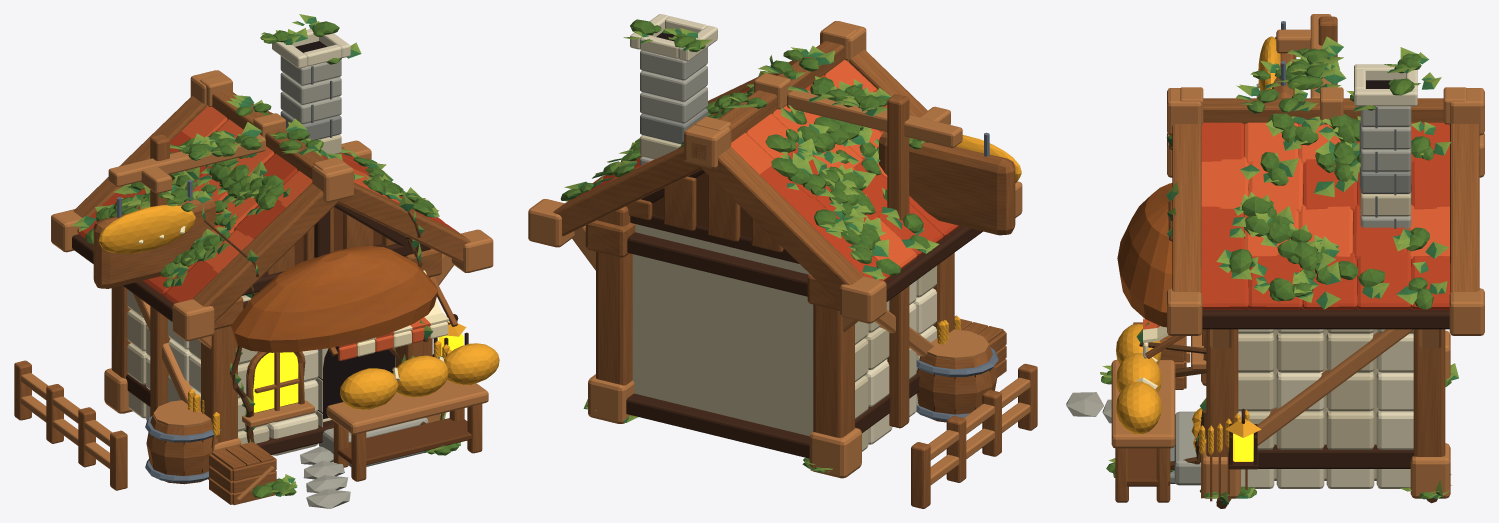
File: bakery.glb
The picture shows the model from 3 angles, left to right: view 1: azimuth 30°, elevation 25°; view 2: azimuth 150°, elevation 25°; view 3: azimuth 270°, elevation 25°; orthographic projection. The views are drawn at different scales.
Visible parts, largest first — view 1: Runtime surface 003, Runtime surface 004, Runtime surface 020, Runtime surface 024, Runtime surface 016, Runtime surface 007, Runtime surface 023, Runtime surface 014, Runtime surface 012, Runtime surface 015, Runtime surface 011, Runtime surface 017 (+9 smaller); view 2: Runtime surface 003, Runtime surface 011, Runtime surface 004, Runtime surface 014, Runtime surface 024, Runtime surface 023, Runtime surface 017, Runtime surface 015, Runtime surface 012, Runtime surface 007, Runtime surface 022, Runtime surface 008 (+3 smaller); view 3: Runtime surface 003, Runtime surface 004, Runtime surface 017, Runtime surface 011, Runtime surface 024, Runtime surface 015, Runtime surface 012, Runtime surface 014, Runtime surface 023, Runtime surface 007, Runtime surface 020, Runtime surface 016 (+9 smaller).
Part boxes in pixels (<box>): Runtime surface 003: <box>14,89,482,505</box>; Runtime surface 004: <box>21,70,493,500</box>; Runtime surface 020: <box>231,246,438,352</box>; Runtime surface 024: <box>85,21,458,498</box>; Runtime surface 016: <box>98,205,499,409</box>; Runtime surface 007: <box>280,56,428,508</box>; Runtime surface 023: <box>71,14,461,496</box>; Runtime surface 014: <box>72,203,430,474</box>; Runtime surface 012: <box>182,106,430,360</box>; Runtime surface 015: <box>146,29,350,455</box>; Runtime surface 011: <box>127,134,395,444</box>; Runtime surface 017: <box>77,131,458,303</box>; Runtime surface 003: <box>553,41,1037,508</box>; Runtime surface 011: <box>632,135,936,451</box>; Runtime surface 004: <box>528,21,1030,484</box>; Runtime surface 014: <box>626,169,990,458</box>; Runtime surface 024: <box>560,19,932,472</box>; Runtime surface 023: <box>564,27,939,472</box>; Runtime surface 017: <box>566,75,960,281</box>; Runtime surface 015: <box>630,14,936,444</box>; Runtime surface 012: <box>609,60,917,276</box>; Runtime surface 007: <box>640,47,707,165</box>; Runtime surface 022: <box>566,28,926,472</box>; Runtime surface 008: <box>909,114,998,421</box>; Runtime surface 003: <box>1115,16,1479,502</box>; Runtime surface 004: <box>1111,14,1484,498</box>; Runtime surface 017: <box>1201,122,1450,309</box>; Runtime surface 011: <box>1238,192,1413,480</box>; Runtime surface 024: <box>1101,48,1452,499</box>; Runtime surface 015: <box>1238,64,1417,488</box>; Runtime surface 012: <box>1143,122,1449,329</box>; Runtime surface 014: <box>1202,309,1449,468</box>; Runtime surface 023: <box>1100,36,1458,503</box>; Runtime surface 007: <box>1066,106,1411,485</box>; Runtime surface 020: <box>1117,183,1172,327</box>; Runtime surface 016: <box>1116,36,1280,449</box>.
Bounding box in the file's own units: 4.05 × 3.81 × 3.56.
Materials: 22 (7 with a texture image).
